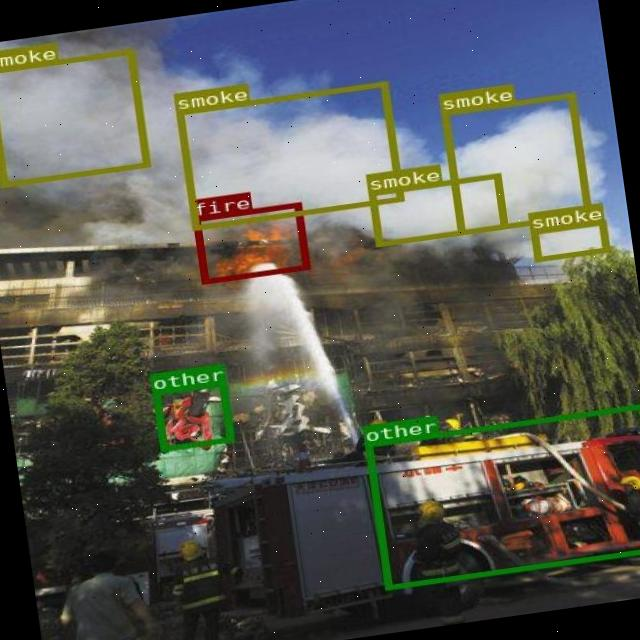fire: (192, 203, 308, 284)
smoke: (175, 82, 404, 230), (440, 93, 591, 235), (0, 48, 149, 187), (368, 172, 507, 246), (530, 220, 610, 262)
